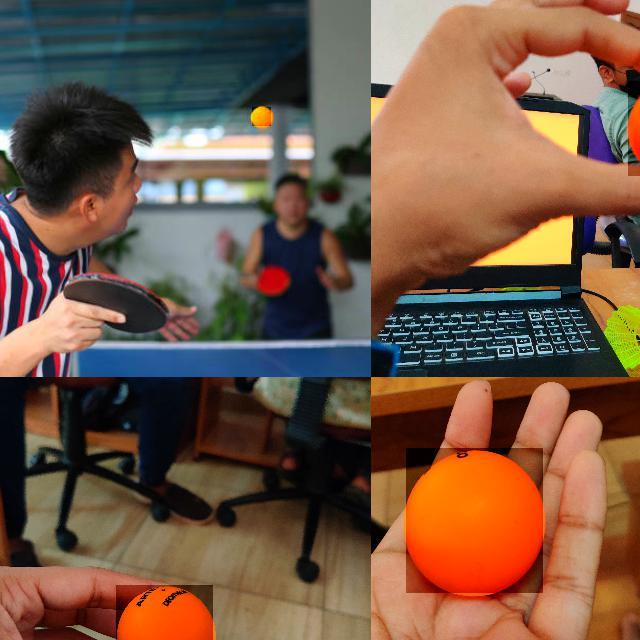ping-pong-ball: (406, 448, 544, 594), (116, 584, 214, 639), (252, 106, 272, 128)
